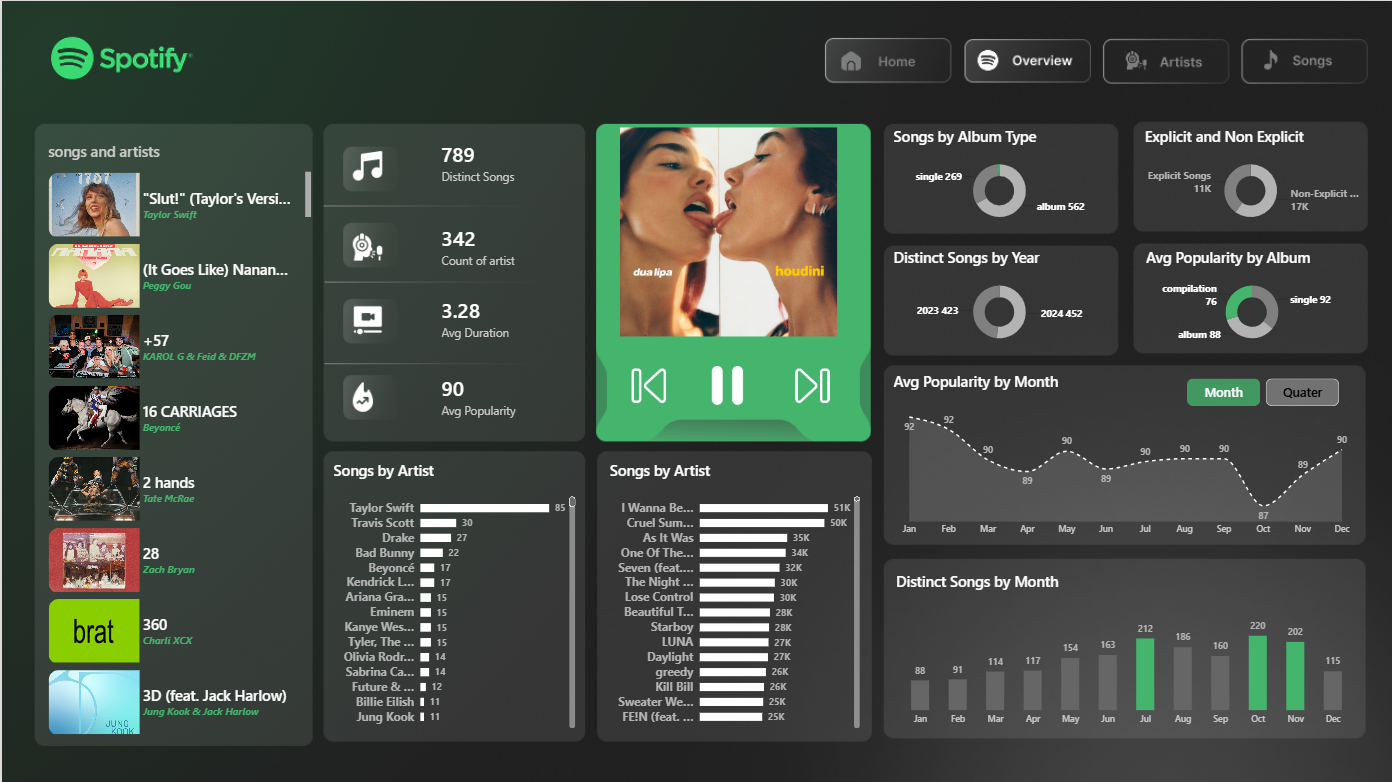

This screenshot's page, from the dashboard's own definition file:
{"tool":"powerbi","page":{"name":"Page 1","canvas":[1920,1080],"ordinal":0},"visuals":[{"type":"clusteredBarChart","title":"Songs by Artist","fields":{"Y":["_Measures.Distinct Songs"],"Category":["Top-50-World.artist"]},"box":[440.6,618.8,365.2,400],"z":0},{"type":"clusteredBarChart","title":"Songs by Artist","fields":{"Y":["Sum(Top-50-World.popularity)"],"Category":["Top-50-World.song"]},"box":[823.2,618.8,376.8,400],"z":1000},{"type":"areaChart","fields":{"Category":["Top-50-World.Month"],"Y":["_Measures.Avg Popularity"]},"box":[1213,496.3,672.2,261.1],"z":2000},{"type":"advancedSlicerVisual","fields":{"Values":["slider.slider"]},"box":[1635.2,520.4,211.1,38.9],"z":3000},{"type":"donutChart","title":"Songs by Album Type","fields":{"Y":["_Measures.Distinct Songs"],"Category":["Top-50-World.album_type"]},"box":[1213,159.3,324.1,164.8],"z":4000},{"type":"donutChart","title":"Explicit and Non Explicit","fields":{"Y":["_Measures.Non-Explicit Songs","_Measures.Explicit Songs"]},"box":[1561.1,159.3,324.1,164.8],"z":5000},{"type":"donutChart","title":"Distinct Songs by Year","fields":{"Y":["_Measures.Distinct Songs"],"Category":["Top-50-World.Year"]},"box":[1214.1,326.3,324.1,164.8],"z":6000},{"type":"donutChart","title":"Avg Popularity by Album","fields":{"Y":["_Measures.Avg Popularity"],"Category":["Top-50-World.album_type"]},"box":[1562.2,326.3,324.1,164.8],"z":7000},{"type":"columnChart","fields":{"Category":["Top-50-World.Month"],"Y":["_Measures.Distinct Songs"]},"box":[1216.7,772.2,668.5,246.3],"z":8000},{"type":"cardVisual","fields":{"Data":["_Measures.Distinct Songs"]},"box":[574.1,174.1,200,100],"z":9000},{"type":"cardVisual","fields":{"Data":["Count(Top-50-World.artist)"]},"box":[574.1,288.9,200,100],"z":10000},{"type":"cardVisual","fields":{"Data":["_Measures.Avg Duration Minutes"]},"box":[574.1,388.9,200,100],"z":11000},{"type":"cardVisual","fields":{"Data":["_Measures.Avg Popularity"]},"box":[574.1,496.3,200,100],"z":12000},{"type":"image","box":[463,416.7,81.5,46.3],"z":13000},{"type":"image","box":[463,207.4,81.5,40.7],"z":14000},{"type":"image","box":[463,318.5,81.5,40.7],"z":15000},{"type":"image","box":[463,525.9,81.5,40.7],"z":16000},{"type":"advancedSlicerVisual","title":"songs and artists","fields":{"Values":["Top-50-World.song"]},"box":[63,192.6,363,825.9],"z":17000},{"type":"cardVisual","fields":{"Data":["Min(Top-50-World.album_cover_url)"]},"box":[836.2,174.1,350,289.7],"z":18000},{"type":"image","box":[936.2,503.4,129.3,53.4],"z":18001},{"type":"image","box":[1050,503.4,136.2,54],"z":18002},{"type":"image","box":[824.1,503.4,136.2,54],"z":18003}]}

Visuals, with their boxes in screenshot pixels (x1, y1, x2, y2), scaled from the page's 1920x1080 canvas onto the 1392x782 screenshot:
"Songs by Artist" clusteredBarChart: (319,448,584,738)
"Songs by Artist" clusteredBarChart: (597,448,870,738)
areaChart - Top-50-World.Month x _Measures.Avg Popularity: (879,359,1367,548)
advancedSlicerVisual - slider.slider: (1186,377,1339,405)
"Songs by Album Type" donutChart: (879,115,1114,235)
"Explicit and Non Explicit" donutChart: (1132,115,1367,235)
"Distinct Songs by Year" donutChart: (880,236,1115,356)
"Avg Popularity by Album" donutChart: (1133,236,1368,356)
columnChart - Top-50-World.Month x _Measures.Distinct Songs: (882,559,1367,737)
cardVisual - _Measures.Distinct Songs: (416,126,561,198)
cardVisual - Count(Top-50-World.artist): (416,209,561,282)
cardVisual - _Measures.Avg Duration Minutes: (416,282,561,354)
cardVisual - _Measures.Avg Popularity: (416,359,561,432)
image: (336,302,395,335)
image: (336,150,395,180)
image: (336,231,395,260)
image: (336,381,395,410)
"songs and artists" advancedSlicerVisual: (46,139,309,737)
cardVisual - Min(Top-50-World.album_cover_url): (606,126,860,336)
image: (679,364,772,403)
image: (761,364,860,404)
image: (597,364,696,404)
